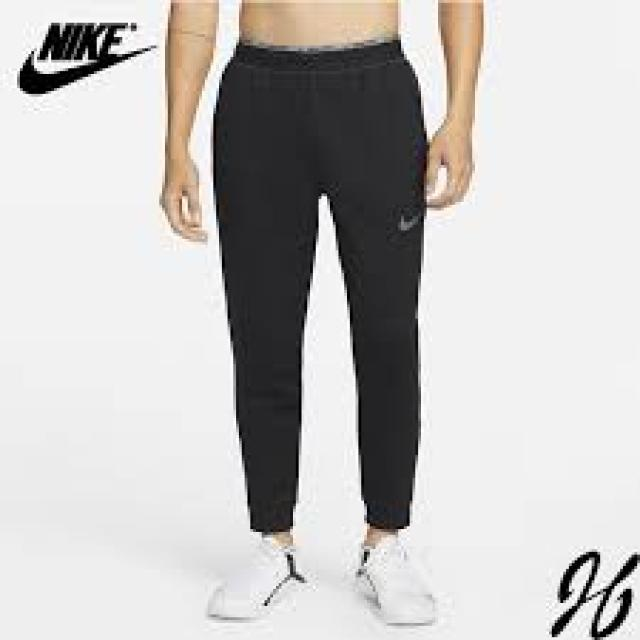pants: (200, 31, 435, 530)
